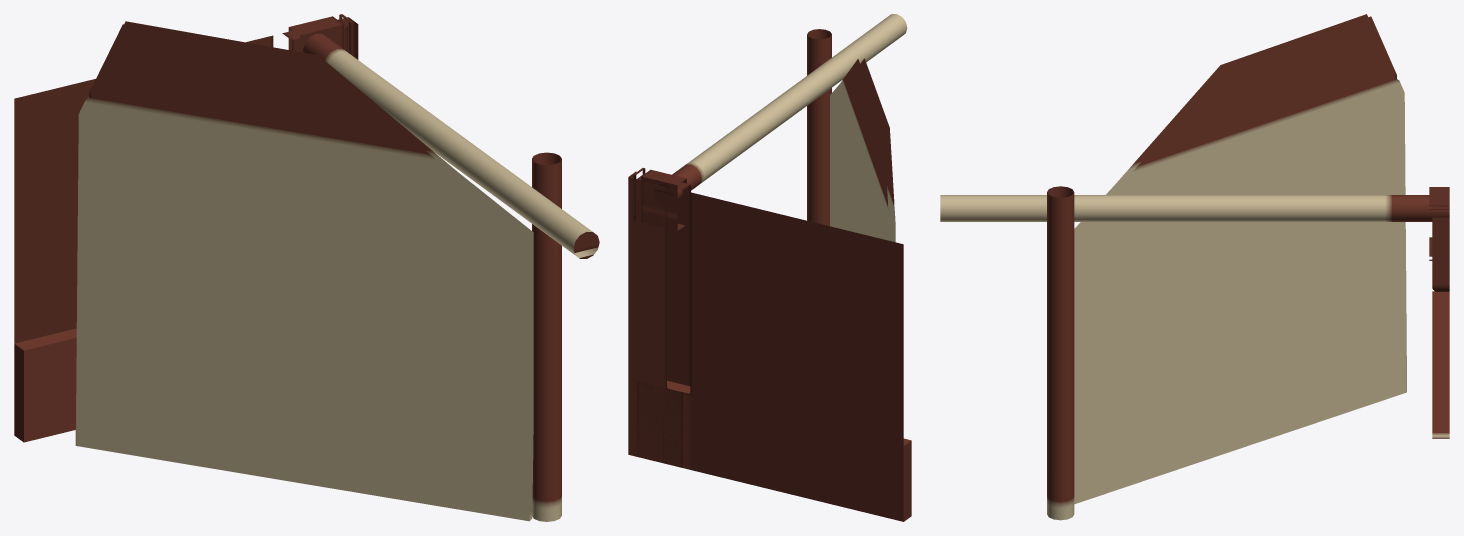
File: section-6.obj
3 views of the same model, side by side, from view 1: azimuth 30°, elevation 25°; view 2: azimuth 150°, elevation 25°; view 3: azimuth 270°, elevation 25° (orthographic). The views are drawn at different scales.
Size of the model in its own units: 1 by 1.23 by 1.46.
